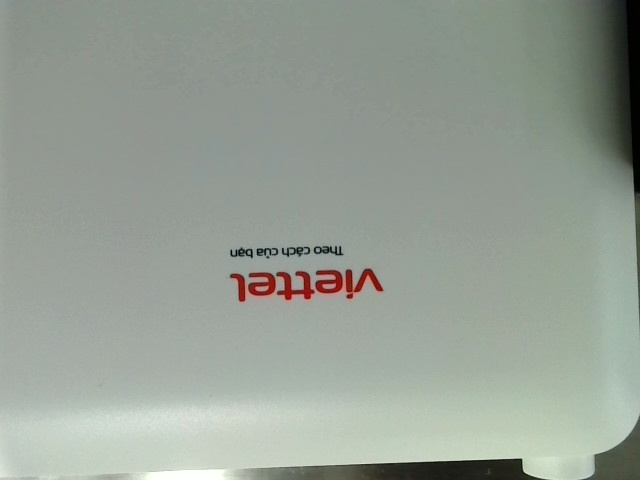AY_Viettel: (217, 239, 395, 312)
